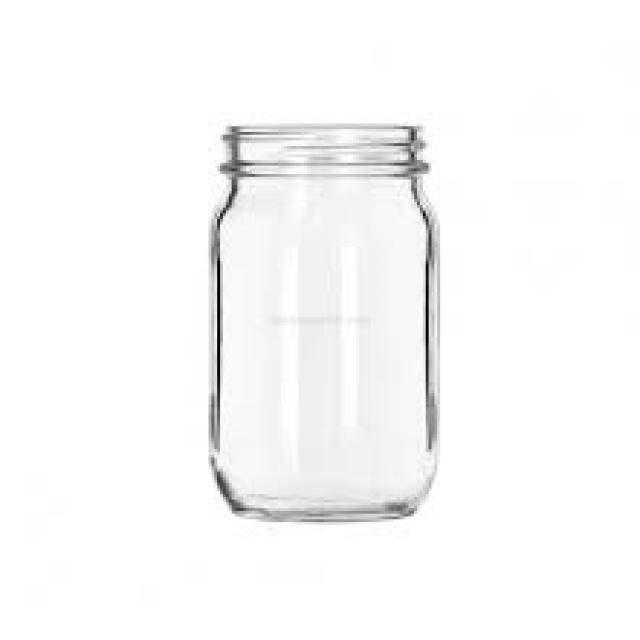glass: (209, 124, 440, 520)
